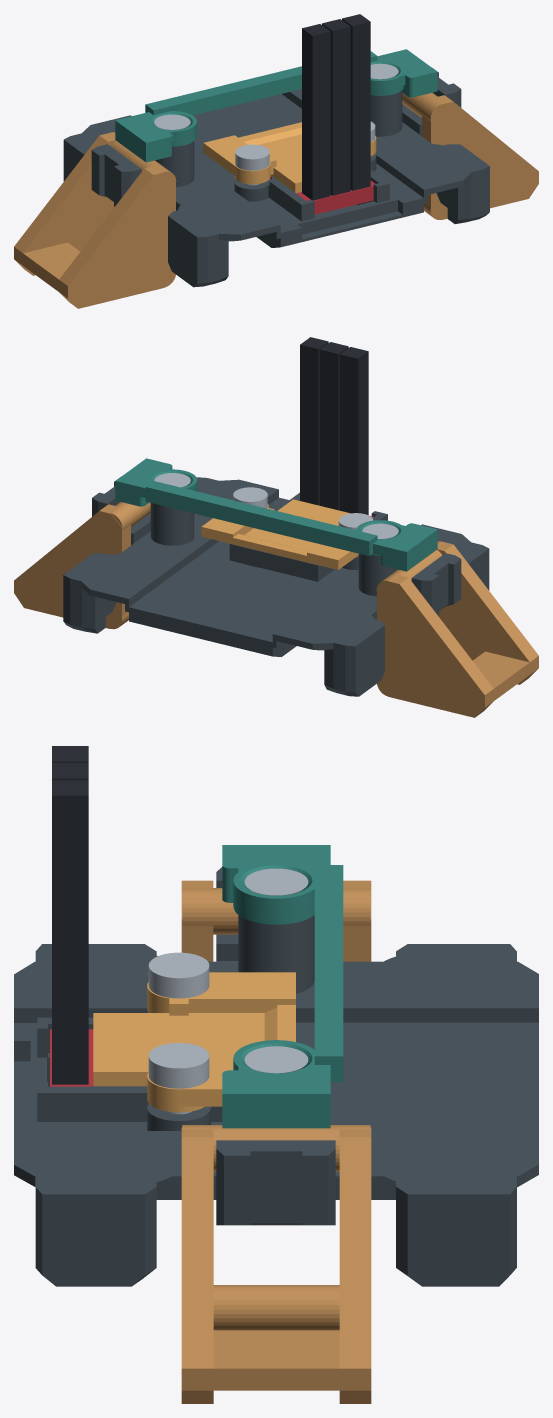
File: LaunchLab_v033_flush_QRE.glb
3 views of the same model, one above another, from view 1: azimuth 30°, elevation 25°; view 2: azimuth 150°, elevation 25°; view 3: azimuth 270°, elevation 25° (orthographic). The views are drawn at different scales.
Visible parts, largest first — view 1: 01_QRE_minimal_port, 08_QRE_latch_LEFT, 02_QRE_clip_keeper, 09_QRE_latch_RIGHT, REF_QRE_existing_upright_plug_0, 03_QRE_pressure_bar, REF_QRE_existing_upright_plug_1, REF_QRE_existing_upright_plug_2, REF_QRE_red_PCB, REF_M2x4_SENSOR_1, REF_M2x5_CLIP_1, REF_M2x5_CLIP_2; view 2: 01_QRE_minimal_port, 08_QRE_latch_LEFT, 02_QRE_clip_keeper, 09_QRE_latch_RIGHT, REF_QRE_existing_upright_plug_0, 03_QRE_pressure_bar, REF_QRE_existing_upright_plug_2, REF_QRE_existing_upright_plug_1, REF_M2x4_SENSOR_2; view 3: 01_QRE_minimal_port, 09_QRE_latch_RIGHT, 02_QRE_clip_keeper, 03_QRE_pressure_bar, REF_QRE_existing_upright_plug_2, 08_QRE_latch_LEFT, REF_M2x4_SENSOR_2, REF_M2x4_SENSOR_1, REF_M2x5_CLIP_1, REF_M2x5_CLIP_2.
Boxes of the visible parts, x1=… form: 01_QRE_minimal_port: x1=63, y1=68, x2=489, y2=287; 08_QRE_latch_LEFT: x1=14, y1=132, x2=176, y2=308; 02_QRE_clip_keeper: x1=115, y1=49, x2=437, y2=162; 09_QRE_latch_RIGHT: x1=402, y1=92, x2=538, y2=219; REF_QRE_existing_upright_plug_0: x1=302, y1=24, x2=330, y2=200; 03_QRE_pressure_bar: x1=203, y1=122, x2=376, y2=193; REF_QRE_existing_upright_plug_1: x1=322, y1=19, x2=350, y2=195; REF_QRE_existing_upright_plug_2: x1=342, y1=14, x2=370, y2=190; REF_QRE_red_PCB: x1=270, y1=176, x2=374, y2=214; REF_M2x4_SENSOR_1: x1=235, y1=144, x2=269, y2=185; REF_M2x5_CLIP_1: x1=154, y1=114, x2=190, y2=129; REF_M2x5_CLIP_2: x1=370, y1=63, x2=398, y2=79; 01_QRE_minimal_port: x1=63, y1=477, x2=489, y2=696; 08_QRE_latch_LEFT: x1=376, y1=541, x2=538, y2=717; 02_QRE_clip_keeper: x1=115, y1=458, x2=437, y2=571; 09_QRE_latch_RIGHT: x1=14, y1=502, x2=150, y2=629; REF_QRE_existing_upright_plug_0: x1=340, y1=347, x2=368, y2=515; 03_QRE_pressure_bar: x1=201, y1=499, x2=358, y2=569; REF_QRE_existing_upright_plug_2: x1=300, y1=337, x2=328, y2=505; REF_QRE_existing_upright_plug_1: x1=320, y1=342, x2=348, y2=510; REF_M2x4_SENSOR_2: x1=233, y1=487, x2=267, y2=508; 01_QRE_minimal_port: x1=14, y1=867, x2=538, y2=1286; 09_QRE_latch_RIGHT: x1=181, y1=1125, x2=371, y2=1403; 02_QRE_clip_keeper: x1=222, y1=845, x2=343, y2=1128; 03_QRE_pressure_bar: x1=93, y1=972, x2=295, y2=1112; REF_QRE_existing_upright_plug_2: x1=52, y1=780, x2=88, y2=1084; 08_QRE_latch_LEFT: x1=181, y1=880, x2=371, y2=961; REF_M2x4_SENSOR_2: x1=148, y1=1043, x2=209, y2=1114; REF_M2x4_SENSOR_1: x1=148, y1=952, x2=209, y2=998; REF_M2x5_CLIP_1: x1=244, y1=868, x2=308, y2=895; REF_M2x5_CLIP_2: x1=244, y1=1046, x2=308, y2=1073.
Bounding box in the file's own units: 0.0598 × 0.0306 × 0.033.
